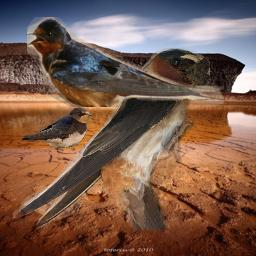Swallow: (13, 48, 210, 230), (27, 17, 224, 107), (21, 106, 92, 151)
